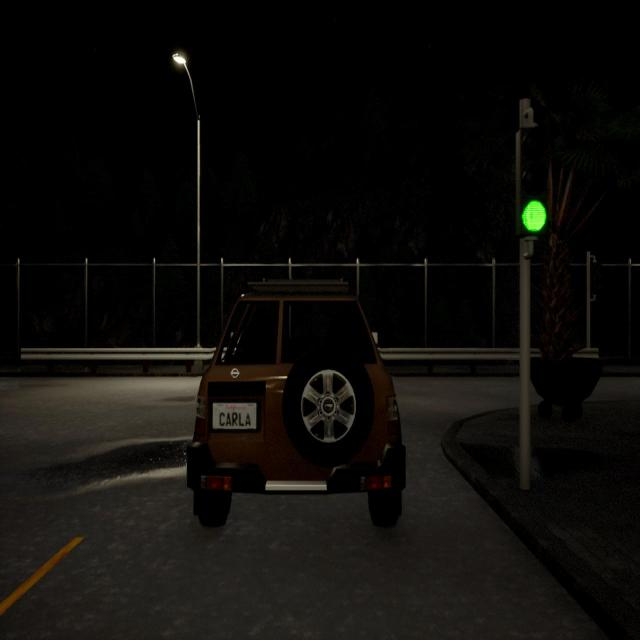Vehicle: (187, 280, 405, 527)
traffic_light: (516, 126, 553, 238), (590, 261, 601, 295)
